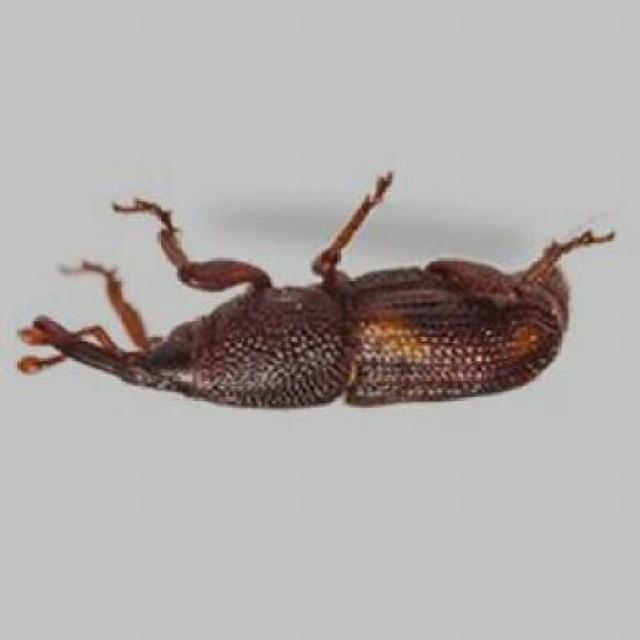rice-bug: (17, 181, 597, 408)
